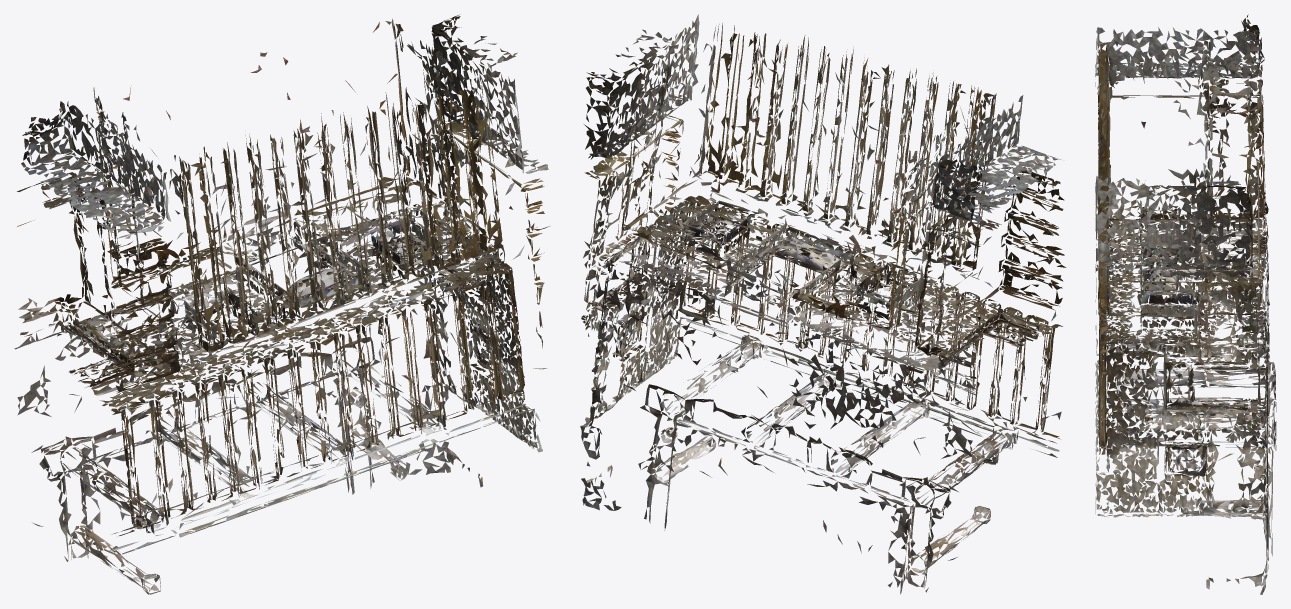
The picture shows the model from 3 angles, left to right: view 1: azimuth 30°, elevation 25°; view 2: azimuth 150°, elevation 25°; view 3: azimuth 270°, elevation 25°; orthographic projection. The views are drawn at different scales.
Bounding box in the file's own units: 13.71 × 14.46 × 5.63.
1 material, 1 textured.
